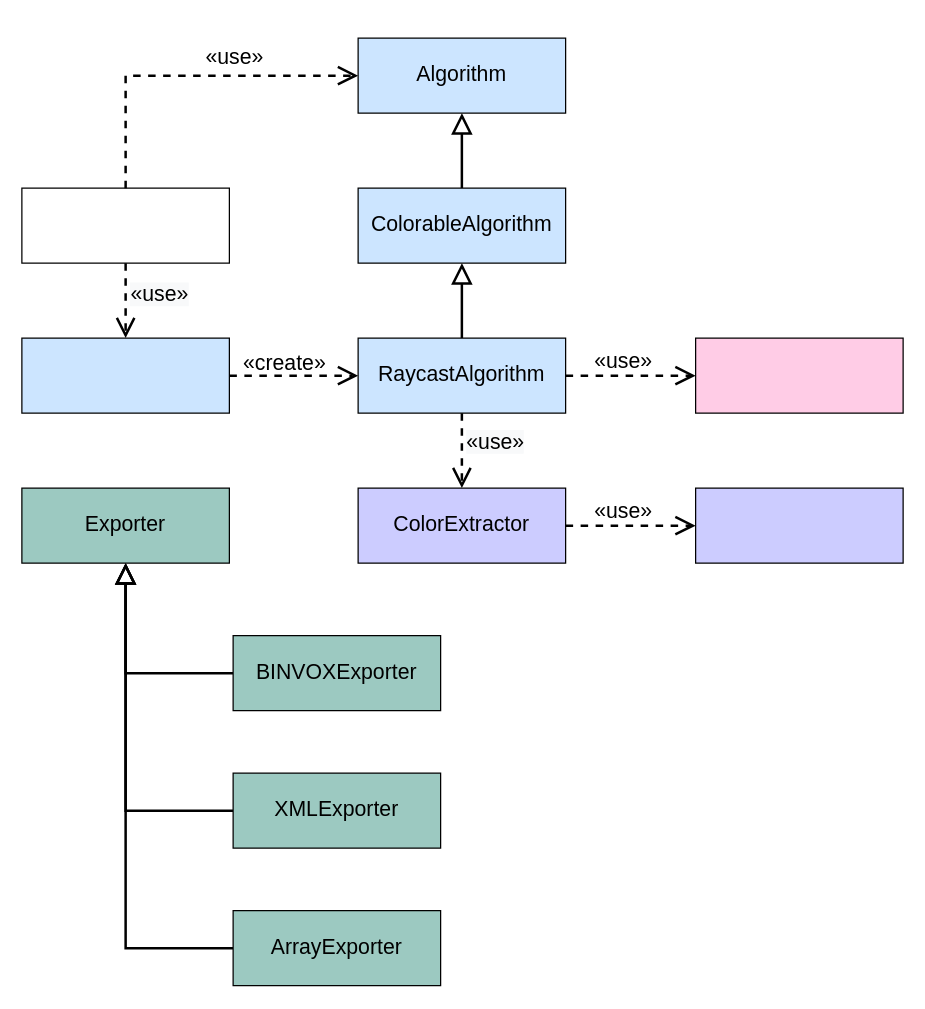
Image size: 925x1009. Some labels were removed from this diagram. The shapes that lost their labels are listed below. From the top down, each one's centre as x and y in pixels, then its label:
point 125,225: Sampler
point 125,375: AlgorithmFactory
point 798,375: Volume
point 798,525: TextureHandler
